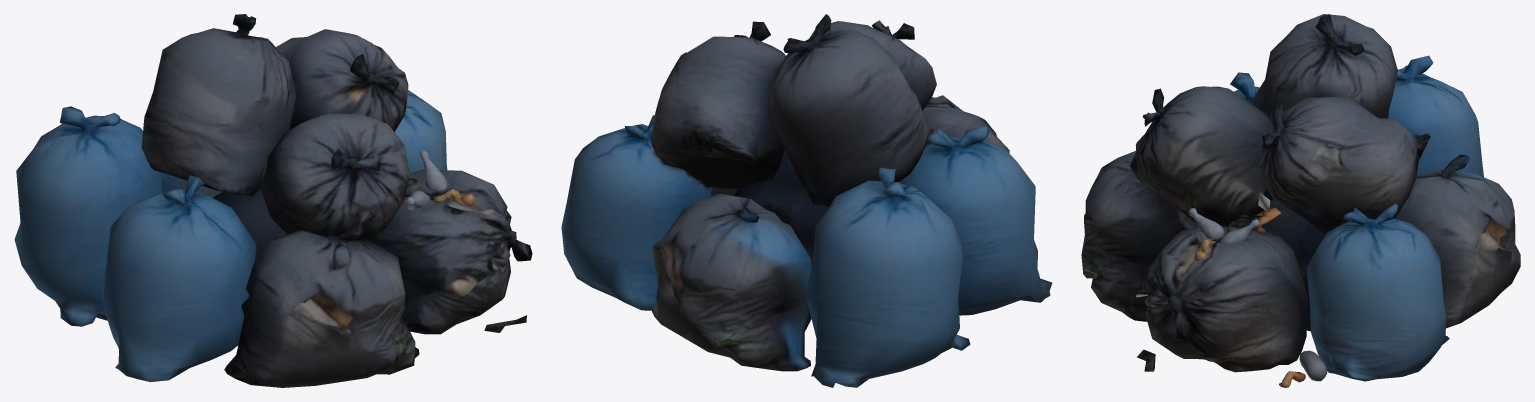
Rendered from javaporcos_mint_pilha_sacos.glb.
The picture shows the model from 3 angles, left to right: view 1: azimuth 30°, elevation 25°; view 2: azimuth 150°, elevation 25°; view 3: azimuth 270°, elevation 25°; orthographic projection. The views are drawn at different scales.
Parts seen in each view (by area): view 1: Pilha de sacos de lixo; view 2: Pilha de sacos de lixo; view 3: Pilha de sacos de lixo.
Part boxes in pixels (box(x1,y1,x2,y2)): Pilha de sacos de lixo: box(14, 14, 532, 387); Pilha de sacos de lixo: box(561, 14, 1052, 387); Pilha de sacos de lixo: box(1081, 14, 1520, 387).
Size of the model in its own units: 1.49 by 1.03 by 1.5.
1 material, 1 textured.
